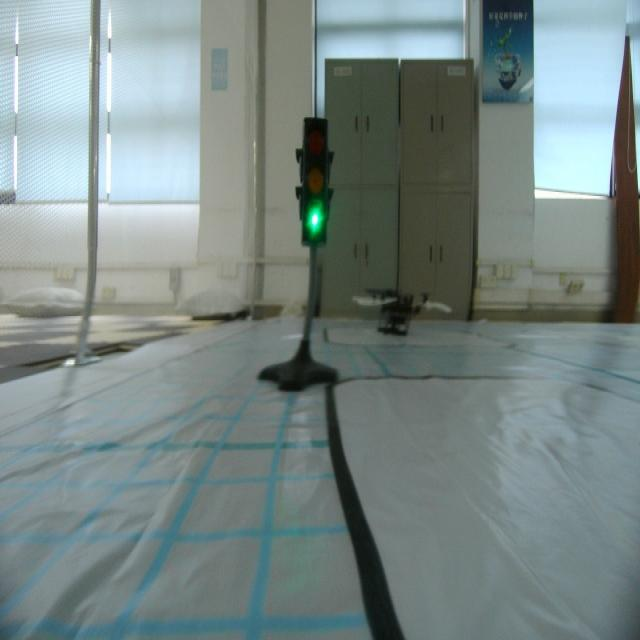green: (296, 116, 334, 249)
